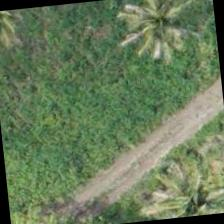Kelapa_Sawit: (111, 0, 209, 68), (133, 155, 223, 221)
